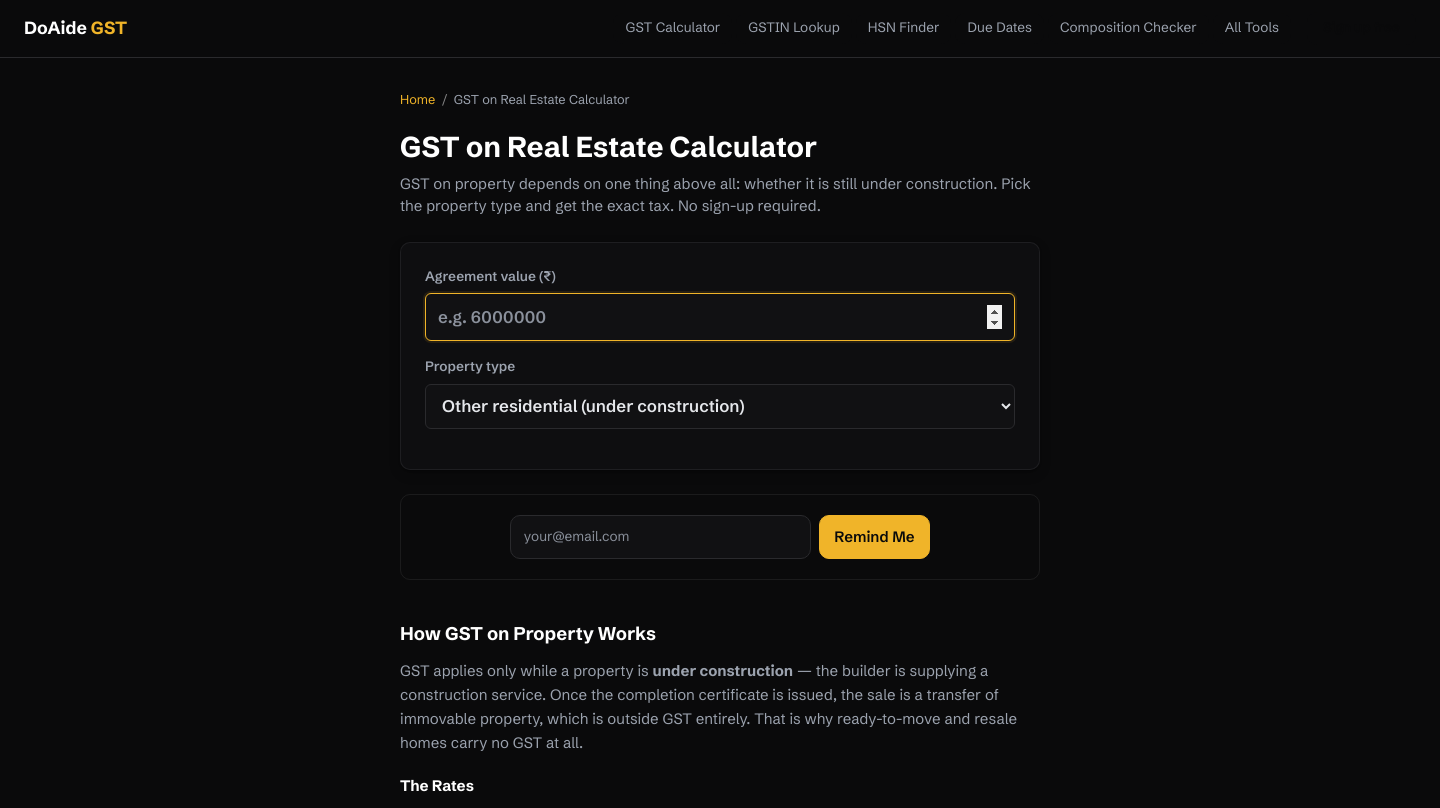
it: GstOnRealEstatePage › defaults to 5% for other residential property
Type "6000000" into the number field with placeholder "e.g. 6000000" at (720, 317), box [425, 293, 1015, 341]
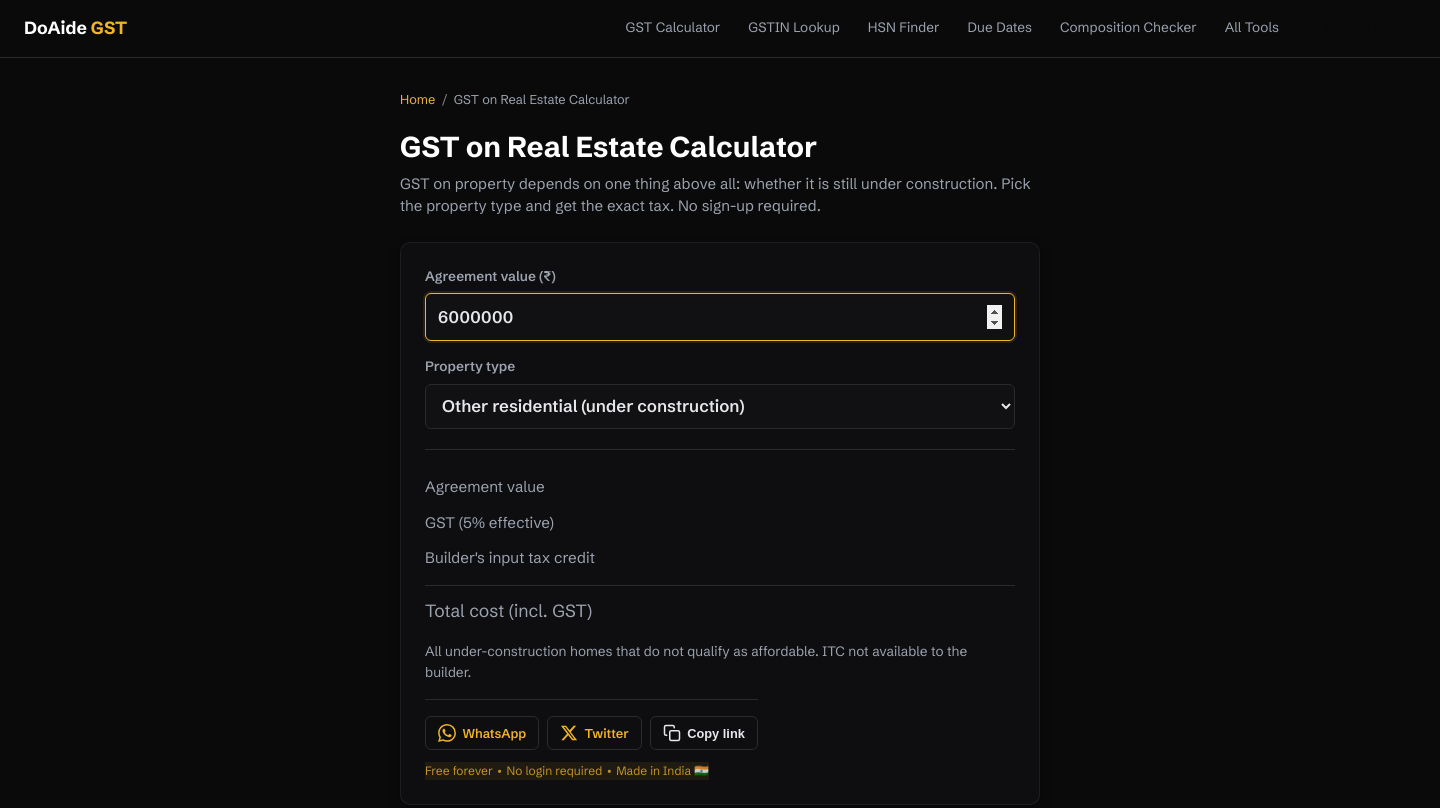
Now the text "GST (5% effective)" is shown, box [425, 512, 554, 535]
